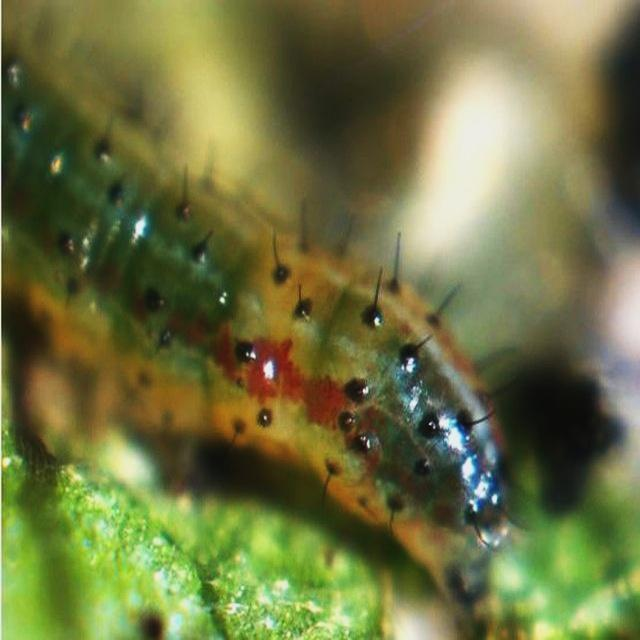gusano_cogollero: (0, 5, 528, 590)
